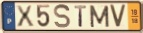5: (36, 4, 52, 29)
M: (89, 4, 111, 28)
S: (53, 3, 72, 30)
T: (73, 5, 88, 28)
V: (109, 4, 128, 29)
X: (15, 5, 35, 28)
